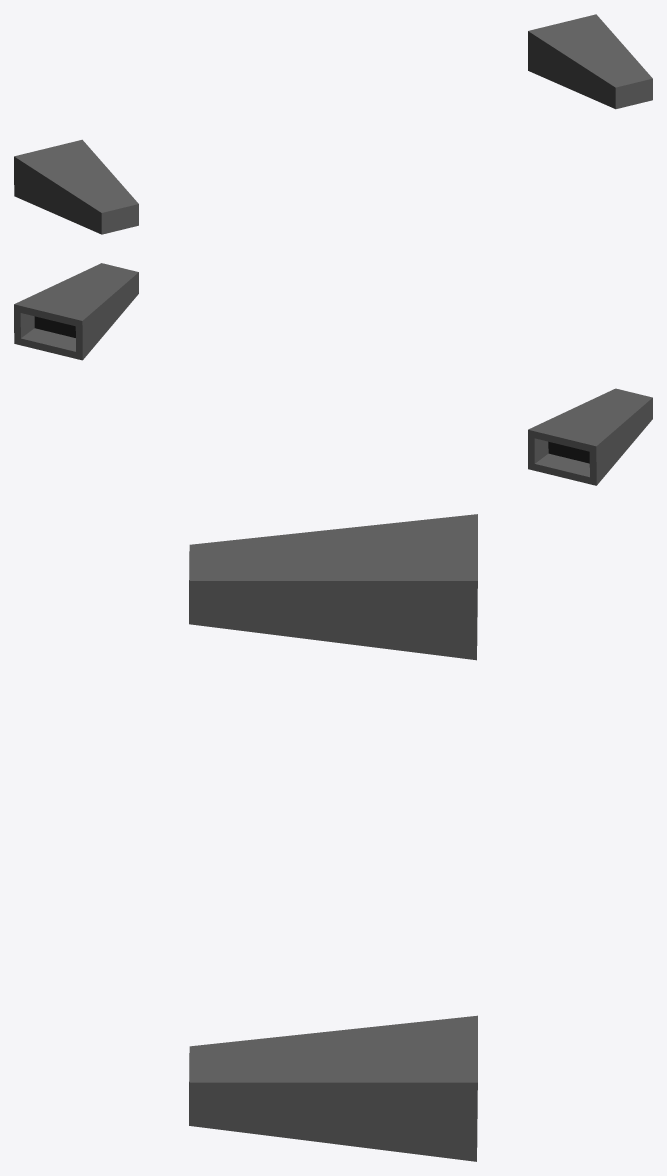
The model's file is exhaust2.glb.
The picture shows the model from 3 angles, top to bottom: view 1: azimuth 30°, elevation 25°; view 2: azimuth 150°, elevation 25°; view 3: azimuth 270°, elevation 25°; orthographic projection. The views are drawn at different scales.
Visible parts, largest first — view 1: exhaust2; view 2: exhaust2; view 3: exhaust2.
Part boxes in pixels (box(x1,y1,x2,y2)): exhaust2: box(14, 14, 652, 234); exhaust2: box(14, 263, 652, 485); exhaust2: box(189, 514, 477, 1161).
Size of the model in its own units: 1.66 by 0.1079 by 0.3557.
Materials: 1 (1 with a texture image).
